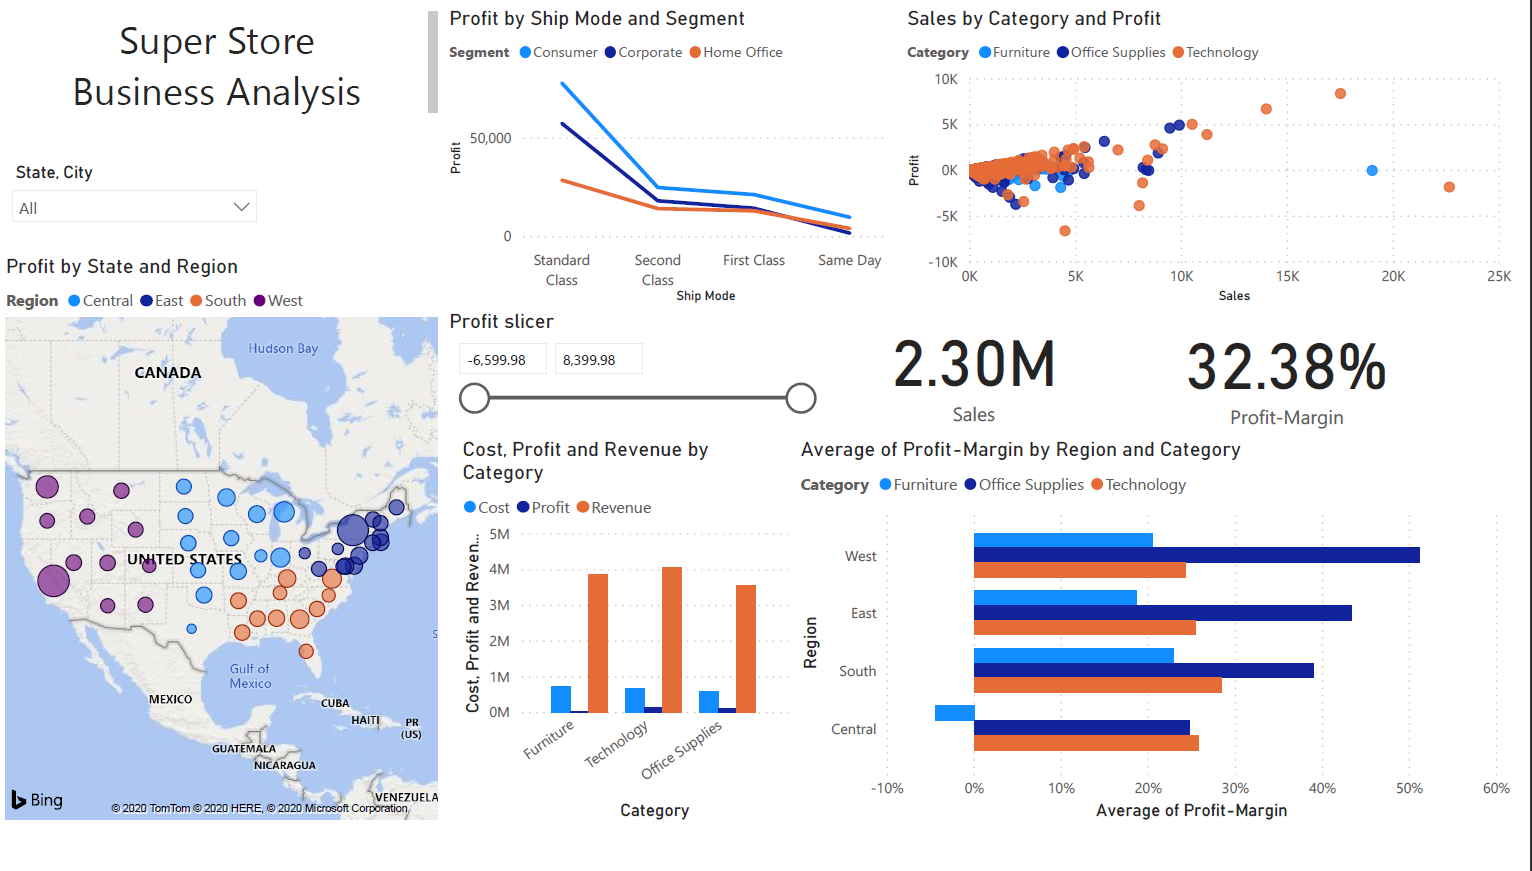

Layout of this report page (visuals, bound fields, positions):
{"tool":"powerbi","page":{"name":"D2","canvas":[1280,720],"ordinal":0},"visuals":[{"type":"map","fields":{"Category":["SampleSuperstore.State","SampleSuperstore.City"],"Series":["SampleSuperstore.Region"],"Size":["Sum(SampleSuperstore.Profit)"]},"box":[0,206.9,370.9,478.6],"z":0},{"type":"clusteredColumnChart","fields":{"Category":["SampleSuperstore.Category","SampleSuperstore.Sub-Category"],"Y":["Sum(SampleSuperstore.Cost)","Sum(SampleSuperstore.Profit)","Sum(SampleSuperstore.Revenue)"]},"box":[382.4,360.5,282.1,325],"z":1000},{"type":"slicer","title":"Profit slicer","fields":{"Values":["SampleSuperstore.Profit"]},"box":[371,252.6,228.4,102.5],"z":2000},{"type":"lineChart","fields":{"Y":["Sum(SampleSuperstore.Profit)"],"Category":["SampleSuperstore.Ship Mode"],"Series":["SampleSuperstore.Segment"]},"box":[370.9,0,382.4,252.9],"z":3000},{"type":"textbox","box":[0,0,371,126.8],"z":4000},{"type":"scatterChart","fields":{"Y":["SampleSuperstore.Profit"],"Series":["SampleSuperstore.Category"],"X":["Sum(SampleSuperstore.Sales)"]},"box":[753.5,0,514.6,253.1],"z":5000},{"type":"slicer","fields":{"Values":["SampleSuperstore.State","SampleSuperstore.City"]},"box":[0,126.4,224.7,65.8],"z":6000},{"type":"card","fields":{"Values":["Sum(SampleSuperstore.Sales)"]},"box":[599.8,253.9,241.4,101.4],"z":7000},{"type":"card","fields":{"Values":["Avg(SampleSuperstore.Profit-Margin)"]},"box":[841.1,252.9,186,102.4],"z":8000},{"type":"clusteredBarChart","title":"Average of Profit-Margin","fields":{"Category":["SampleSuperstore.Region"],"Y":["Avg(SampleSuperstore.Profit-Margin)"],"Series":["SampleSuperstore.Category"]},"box":[664.6,360.5,604,325],"z":9000}]}

Visuals, with their boxes in screenshot pixels (x1, y1, x2, y2), scaled from the page's 1280x720 canvas onto the 1532x871 screenshot:
map - SampleSuperstore.State x SampleSuperstore.City: BBox(0, 250, 444, 829)
clusteredColumnChart - SampleSuperstore.Category x SampleSuperstore.Sub-Category: BBox(458, 436, 795, 829)
"Profit slicer" slicer: BBox(444, 306, 717, 430)
lineChart - Sum(SampleSuperstore.Profit) x SampleSuperstore.Ship Mode: BBox(444, 0, 902, 306)
textbox: BBox(0, 0, 444, 153)
scatterChart - SampleSuperstore.Profit x SampleSuperstore.Category: BBox(902, 0, 1518, 306)
slicer - SampleSuperstore.State x SampleSuperstore.City: BBox(0, 153, 269, 233)
card - Sum(SampleSuperstore.Sales): BBox(718, 307, 1007, 430)
card - Avg(SampleSuperstore.Profit-Margin): BBox(1007, 306, 1229, 430)
"Average of Profit-Margin" clusteredBarChart: BBox(795, 436, 1518, 829)
